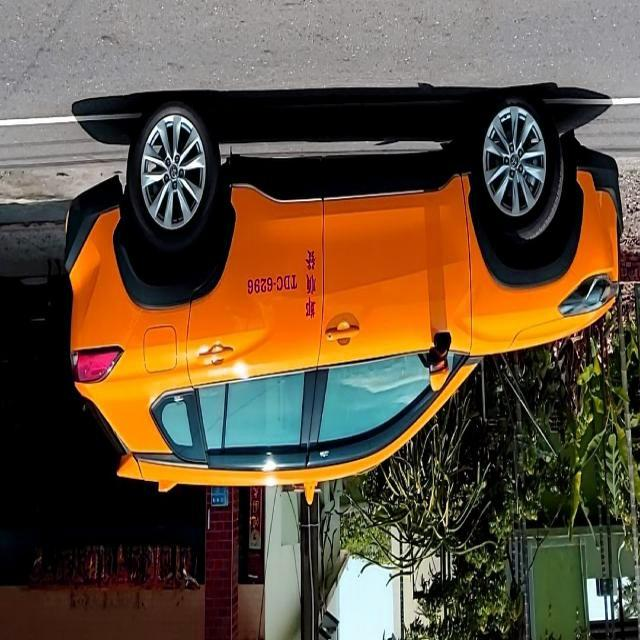taxi: (53, 84, 639, 513)
